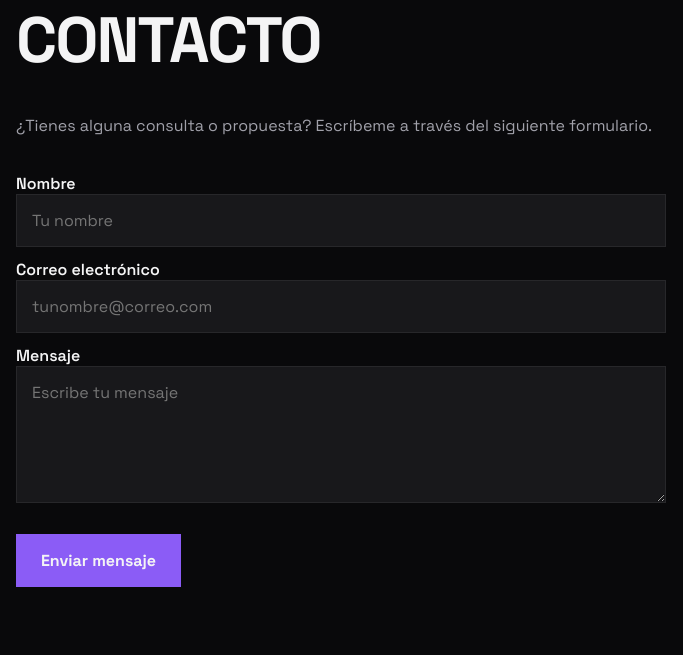
Test: Componente Contacto › debe mostrar un error si faltan campos obligatorios
Type "Ignacio Lobos" into the field labelled "Nombre" at (341, 220), box 16,194 -> 666,247
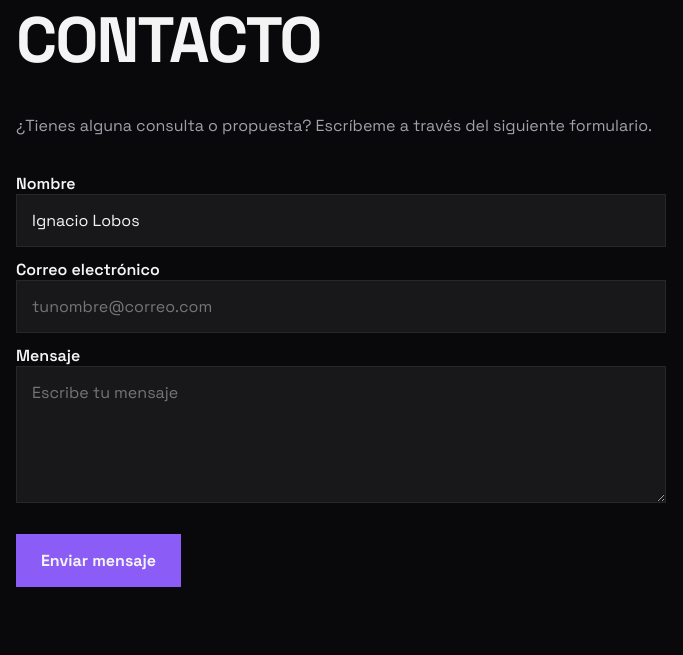
Click the button "Enviar mensaje" at (98, 560), box 16,534 -> 181,587
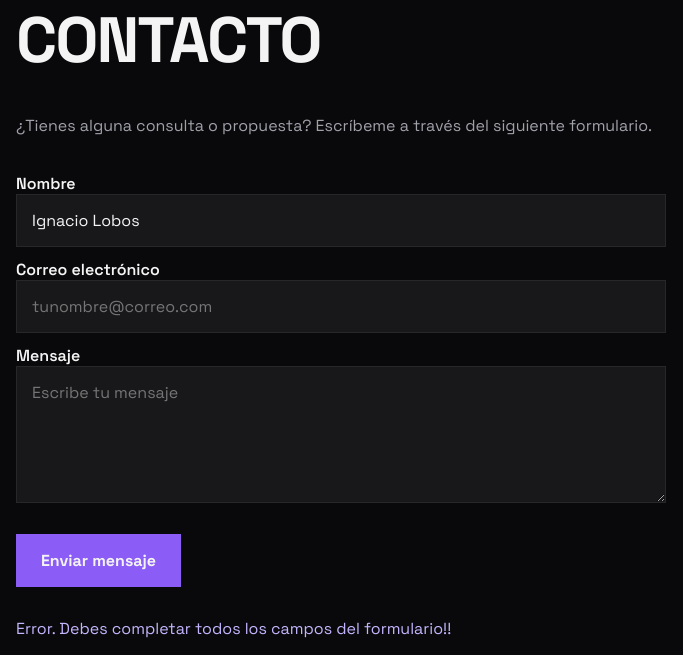
Now the message reads "Error. Debes completar todos los campos del formulario!!", box 16,618 -> 451,639
